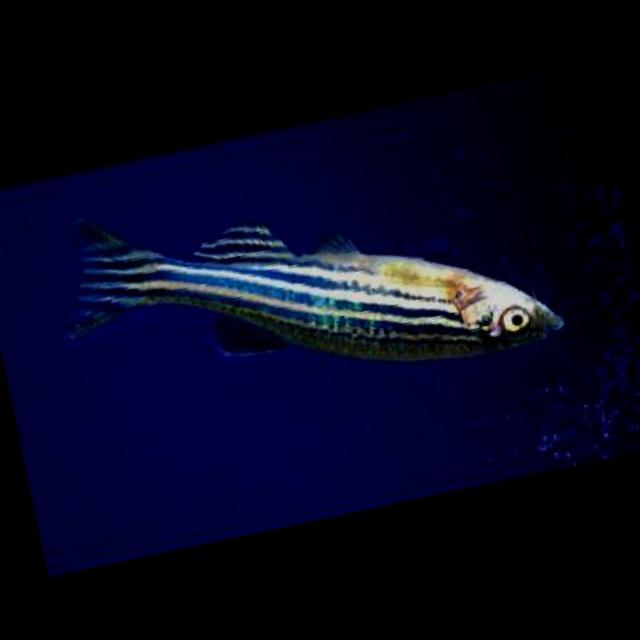ZebraFish: (39, 123, 562, 440)
